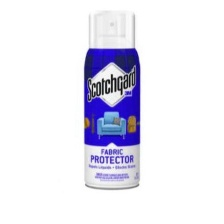aerosol_cans: (79, 6, 144, 191)
